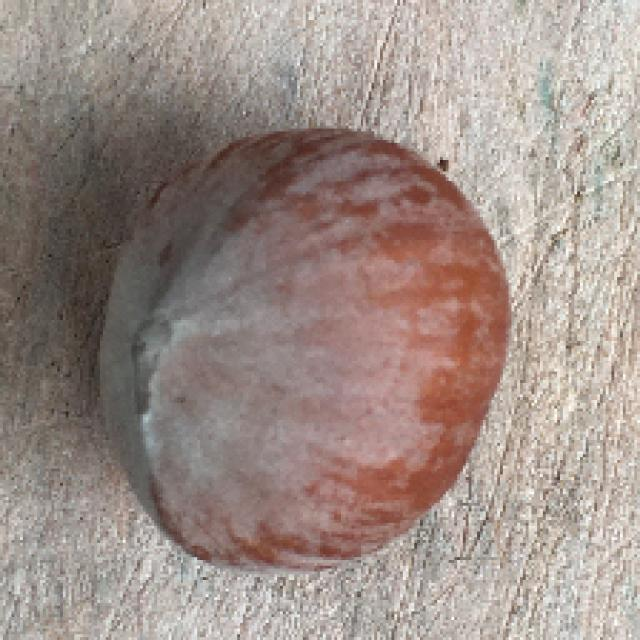qualityHazelnut: (81, 119, 512, 580)
